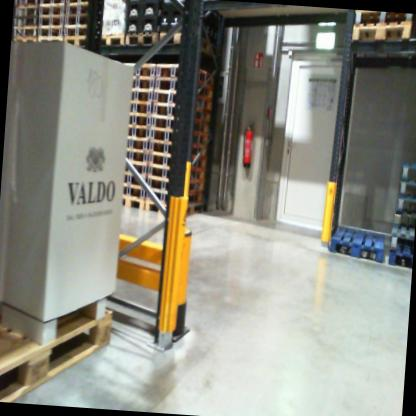pallet: (0, 303, 119, 409), (347, 19, 414, 67), (327, 219, 386, 262), (157, 65, 222, 89), (147, 108, 206, 134), (147, 135, 213, 158), (142, 200, 214, 220), (160, 27, 215, 53), (146, 185, 208, 208), (146, 174, 209, 194), (145, 163, 207, 183), (151, 92, 208, 113), (148, 152, 203, 173), (351, 11, 411, 29), (149, 125, 206, 143), (121, 24, 161, 48), (150, 103, 199, 121), (386, 245, 413, 276), (388, 223, 414, 254), (155, 78, 205, 94), (60, 32, 90, 54), (122, 60, 158, 78), (123, 135, 153, 153), (394, 191, 416, 215), (95, 31, 125, 48), (126, 73, 156, 90), (126, 99, 152, 118), (35, 20, 62, 38), (120, 151, 150, 167), (115, 195, 143, 211), (11, 24, 37, 41), (398, 177, 416, 201), (40, 0, 67, 16), (121, 161, 148, 177), (120, 173, 146, 189), (38, 14, 66, 28), (14, 5, 40, 20), (65, 2, 89, 18), (123, 122, 147, 138), (14, 15, 39, 30), (64, 25, 89, 40), (125, 112, 150, 127), (127, 86, 153, 100), (400, 161, 416, 183), (119, 183, 144, 197), (35, 37, 65, 48), (62, 16, 89, 27), (395, 211, 411, 229), (13, 35, 36, 46), (17, 0, 41, 9), (41, 0, 65, 8), (62, 0, 89, 6)
